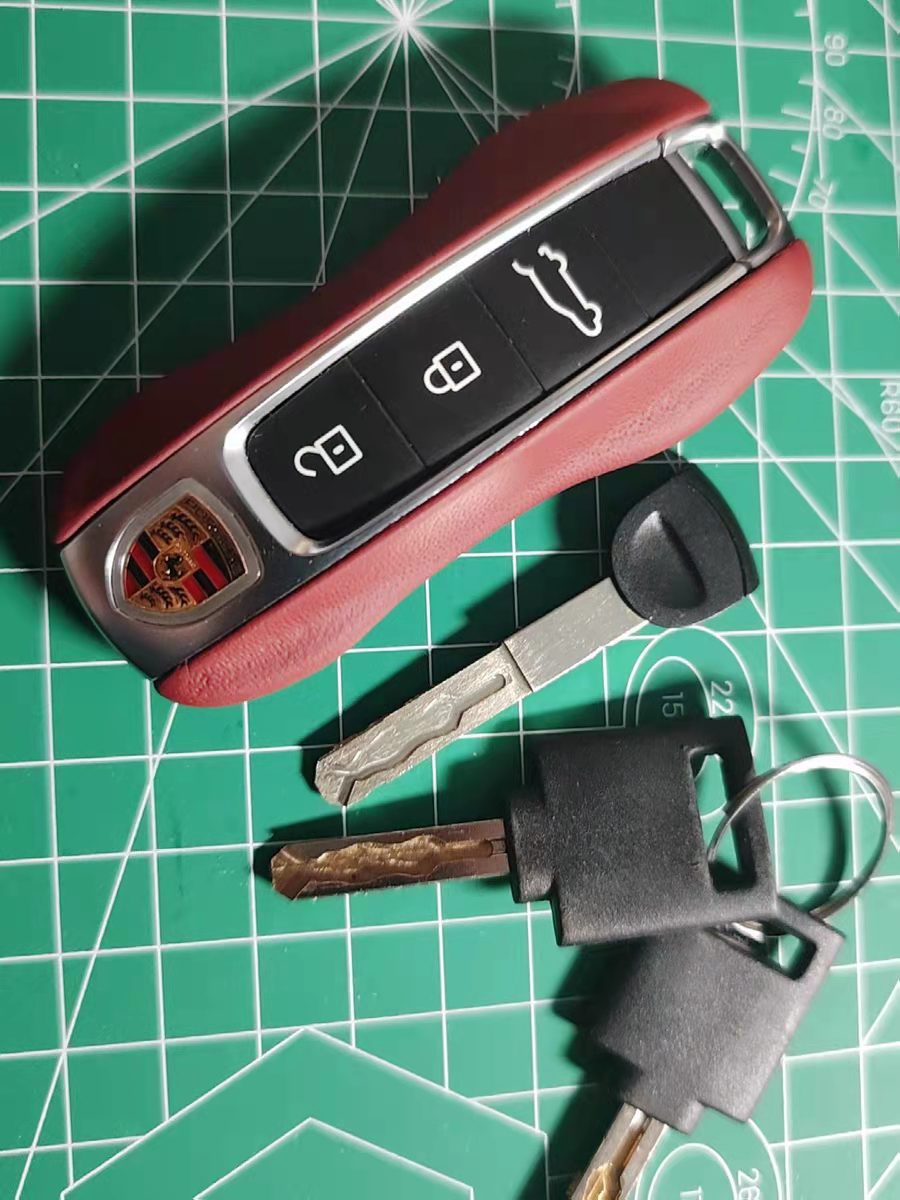key: (297, 449, 783, 800), (248, 710, 792, 948), (535, 854, 850, 1198)
